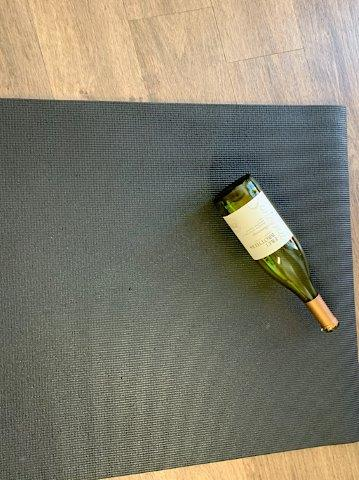botolkaca: (216, 171, 341, 334)
